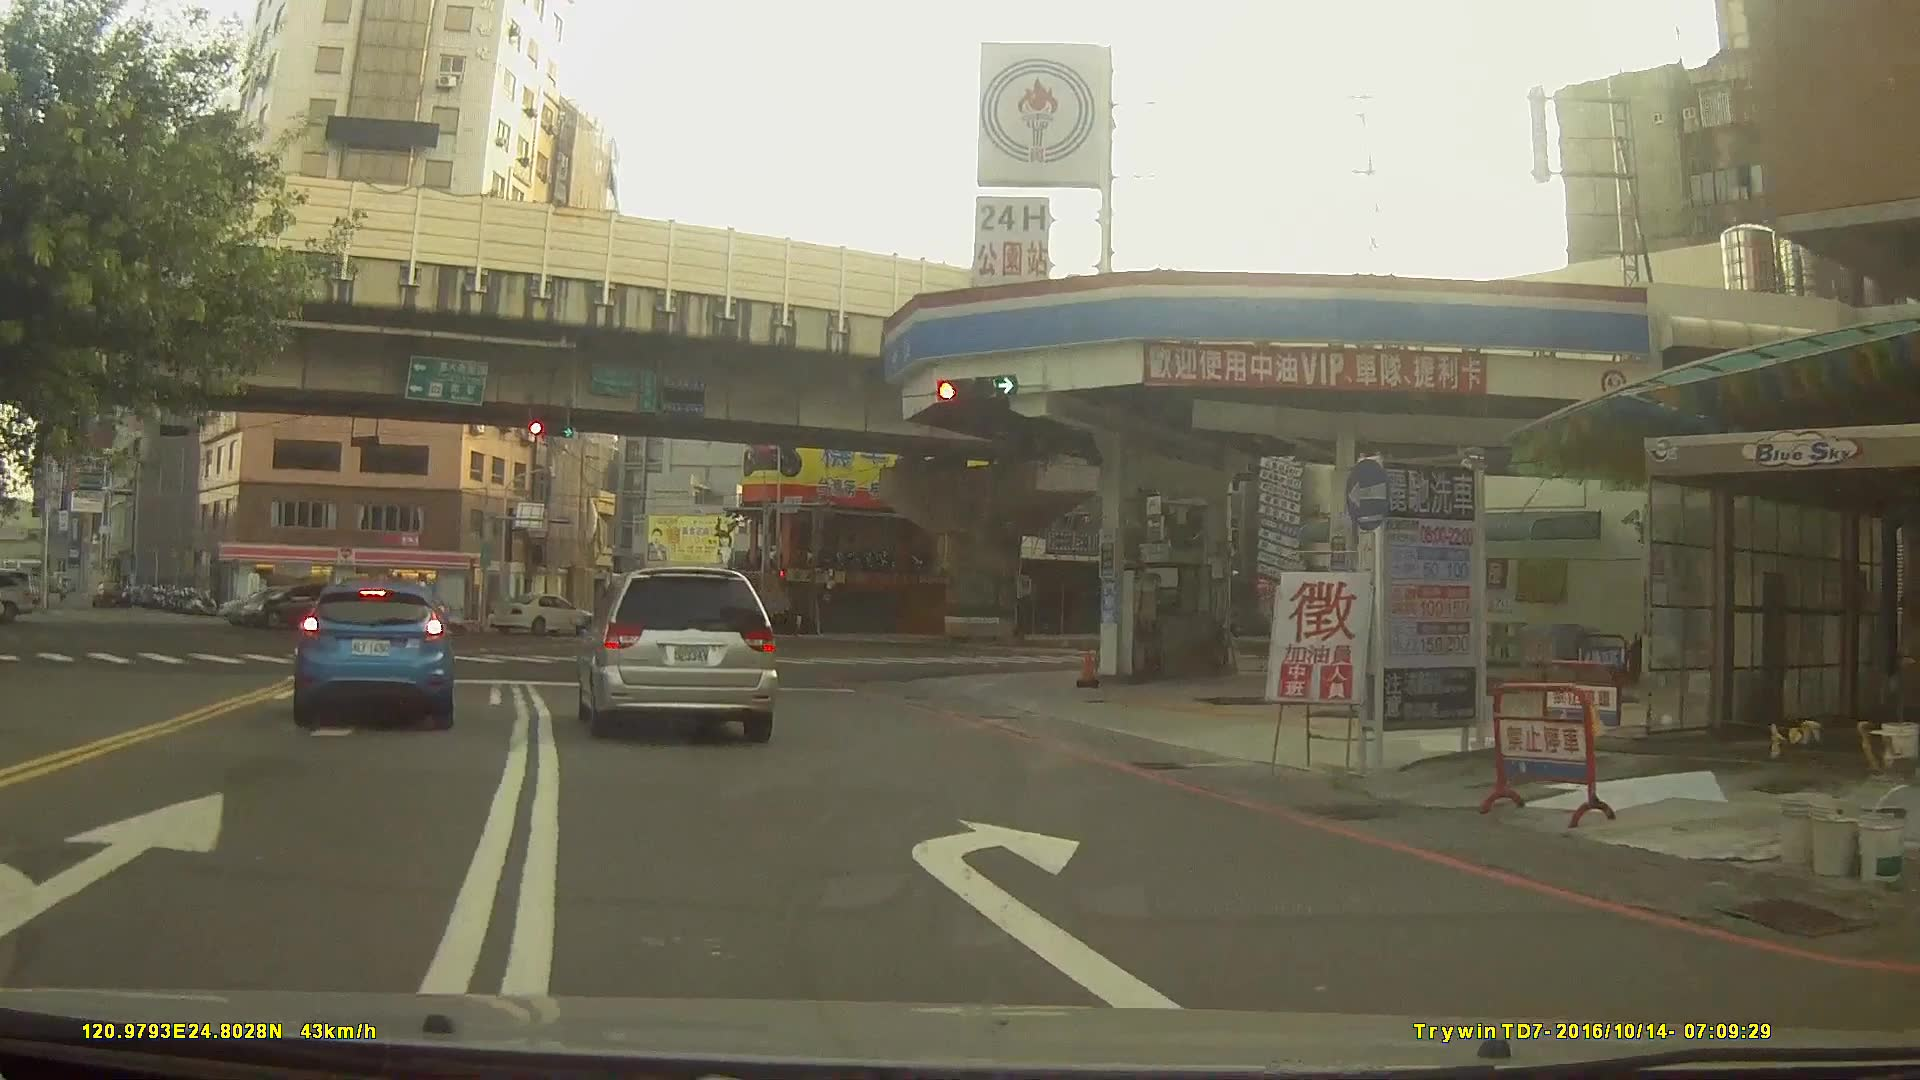vehicle: (572, 564, 777, 742), (291, 578, 458, 731), (237, 584, 355, 632), (487, 592, 607, 637)
